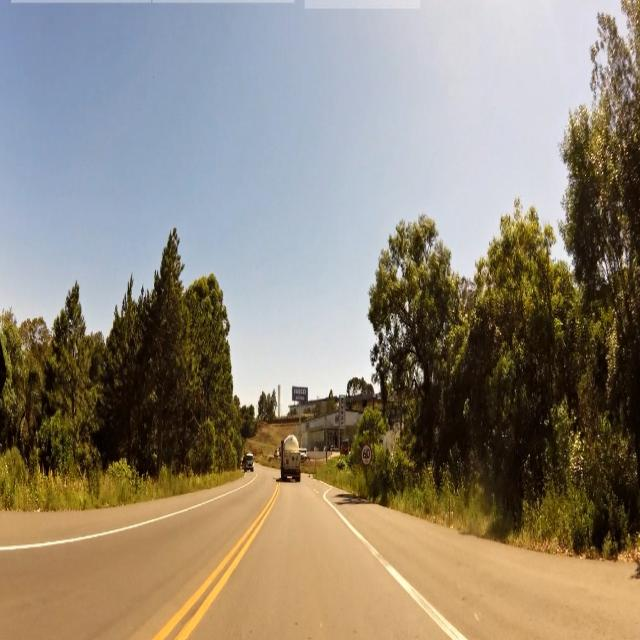R-19: (362, 444, 372, 467)
